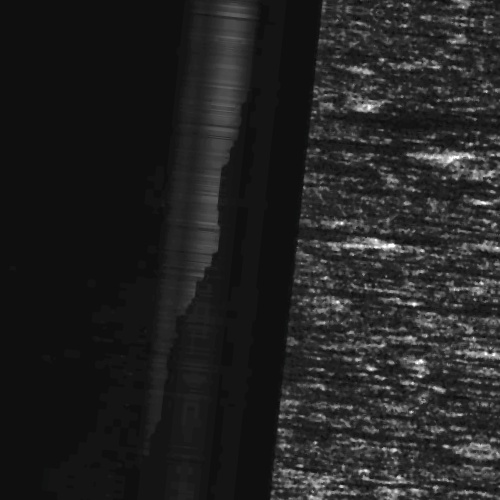object: (410, 405, 500, 428), (365, 122, 458, 139), (409, 213, 500, 228)
shadow: (333, 405, 498, 428), (374, 8, 500, 29), (321, 122, 411, 139), (388, 213, 477, 228), (388, 480, 500, 487)
